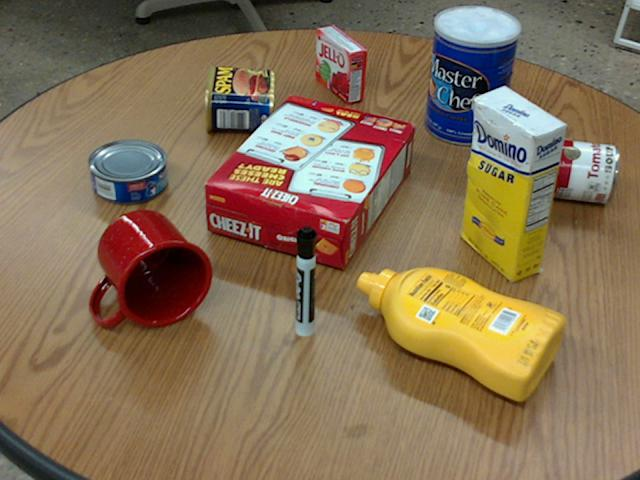cracker_box: (203, 96, 413, 268)
gelatin_box: (315, 25, 366, 102)
large_marker: (294, 225, 315, 336)
master_chef_can: (425, 6, 520, 144)
mug: (89, 209, 210, 326)
mustard_bottle: (356, 266, 563, 399)
potted_meat_can: (204, 63, 273, 129)
sugar_box: (462, 86, 564, 281)
tomato_soup_can: (516, 134, 616, 201)
tuna_fish_can: (87, 138, 166, 202)
